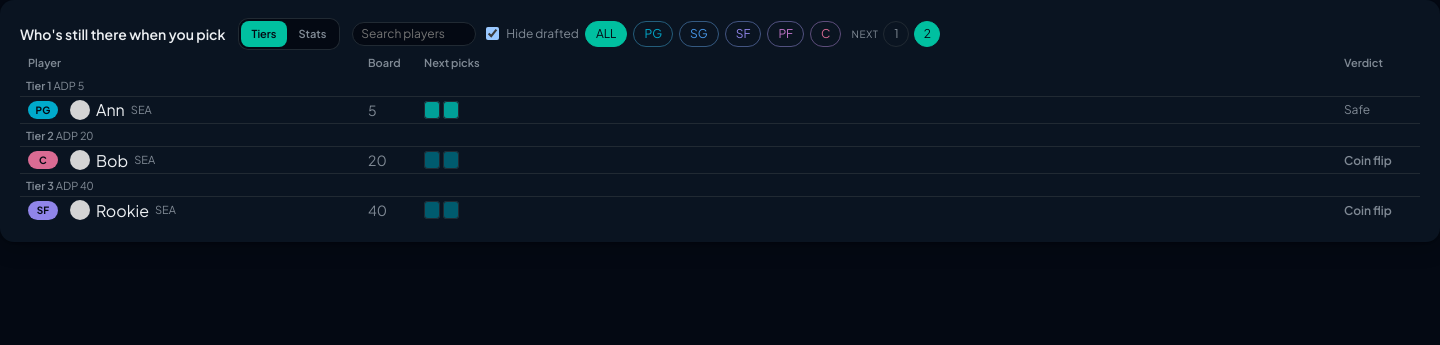
Test: AvailabilityPanel stats view (spec 023 US1) › says the stats are last season’s when the requested season has no games
Click the button "Stats": (312, 34) left=287, top=21, right=337, bottom=47
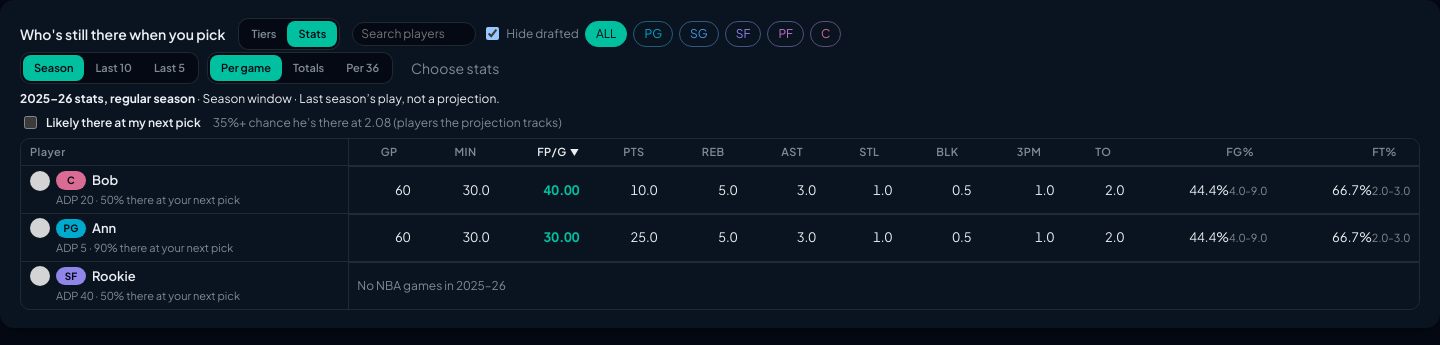
expect the text "2025–26 stats, regular season" is shown: met, box left=20, top=91, right=195, bottom=106
expect the text "not a projection" is shown: met, box left=292, top=91, right=500, bottom=106
